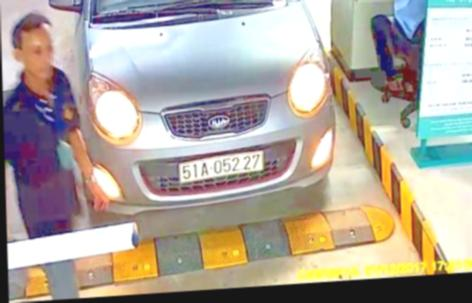License_Plate: (177, 149, 268, 182)
